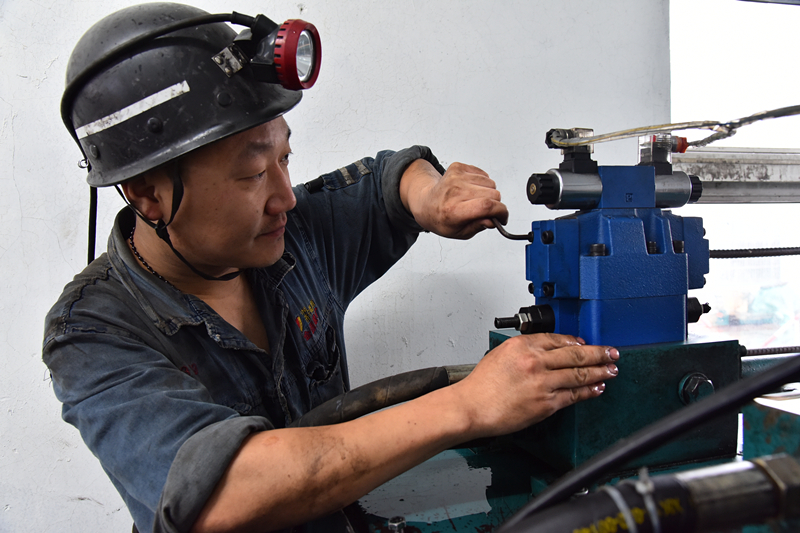helmet: (37, 1, 326, 280)
